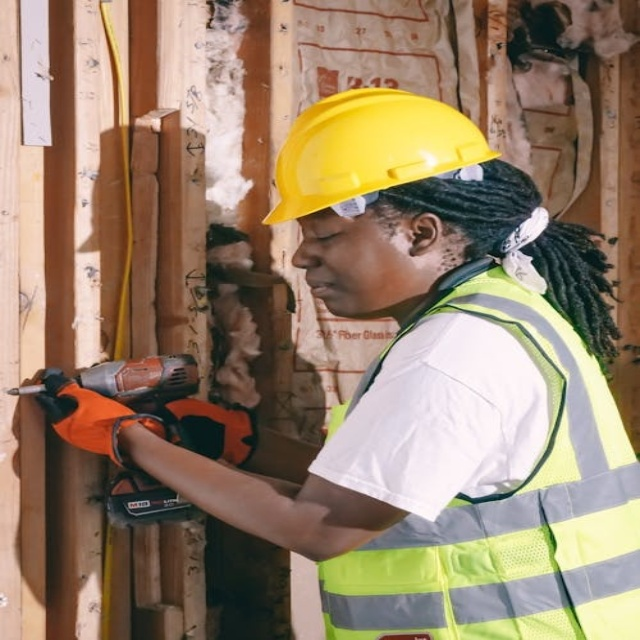Guantes: (40, 378, 161, 460), (145, 395, 265, 473)
Sin_gafas: (293, 221, 355, 248)
Sin_mascara: (301, 273, 370, 311)
